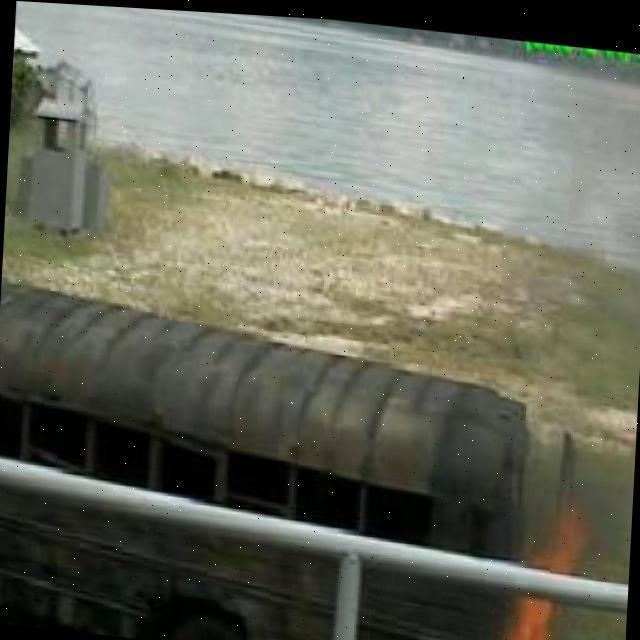fire: (492, 584, 585, 640), (524, 507, 600, 571)
